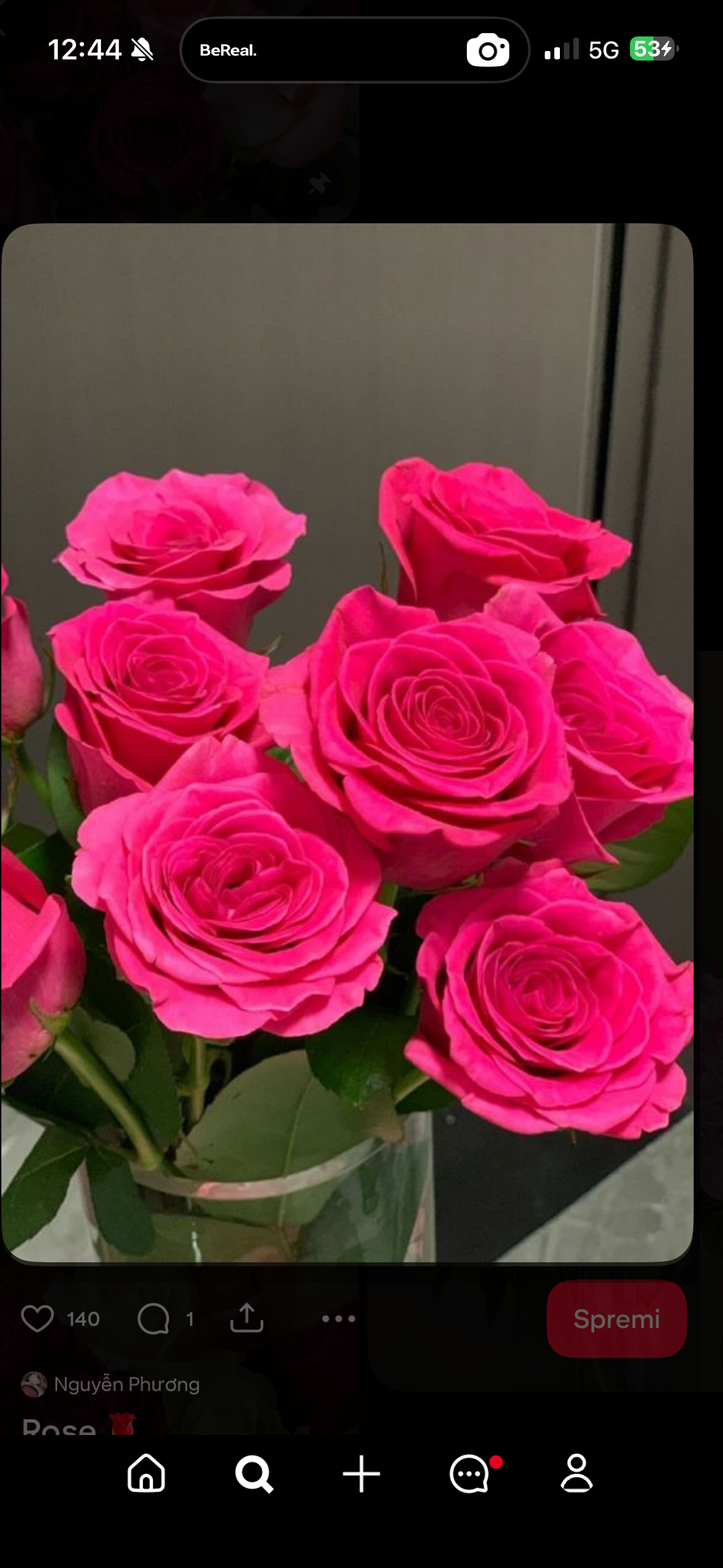rose: (64, 731, 400, 1052), (255, 587, 577, 885), (400, 856, 699, 1145), (374, 450, 637, 637), (47, 465, 310, 645), (41, 593, 275, 795), (539, 608, 695, 873)
